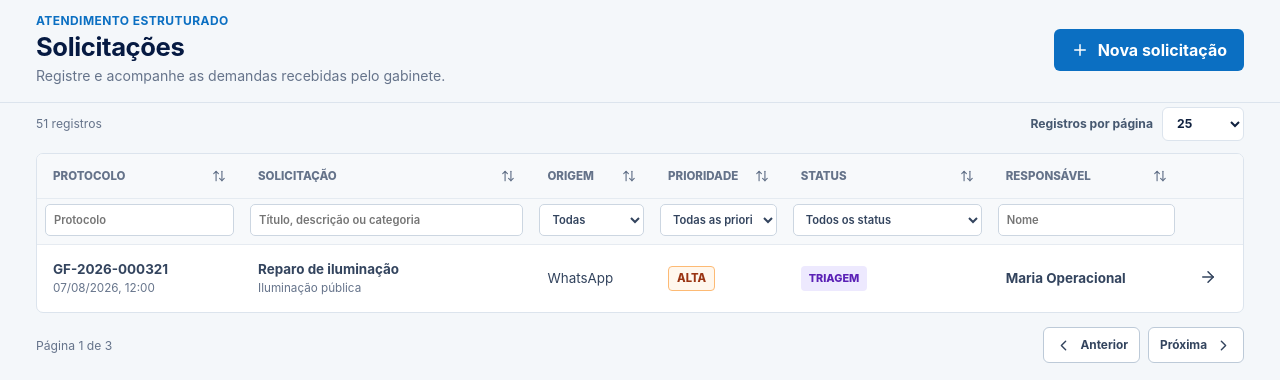
Test case: RequestsPage › pagina, ordena, filtra colunas e altera a quantidade de registros
expect the text "51 registros" is shown: met, box [36,116,102,131]
Select "10" in the dropdown labelled "Registros por página" at coordinates (1203, 124), box [1162,106,1244,140]
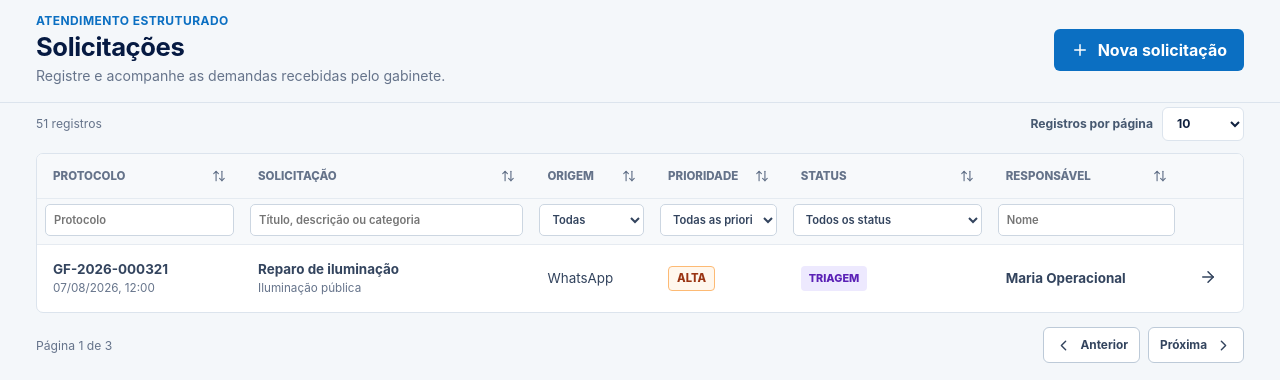
Click the button "Protocolo" at coordinates (140, 176), box [53,154,226,198]
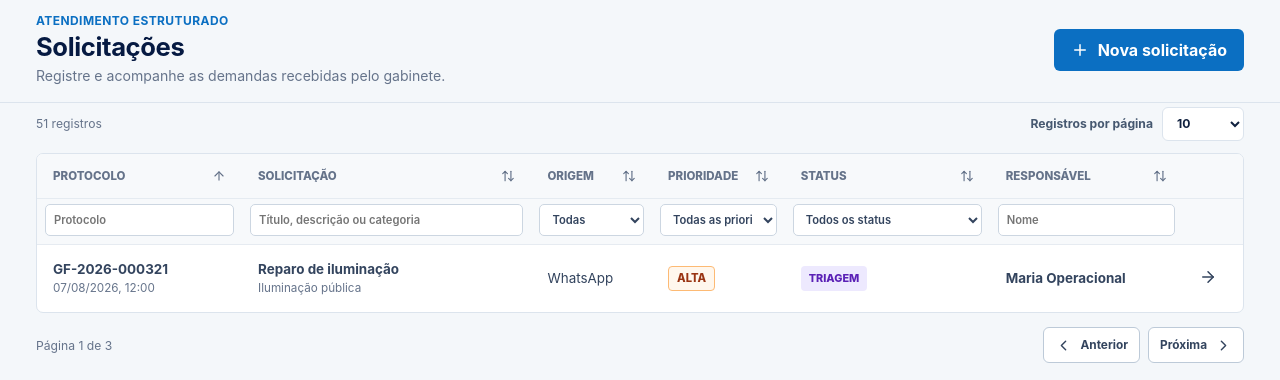
Type "000321" into the field named "Filtrar protocolo" at coordinates (140, 220), box [45,204,234,236]
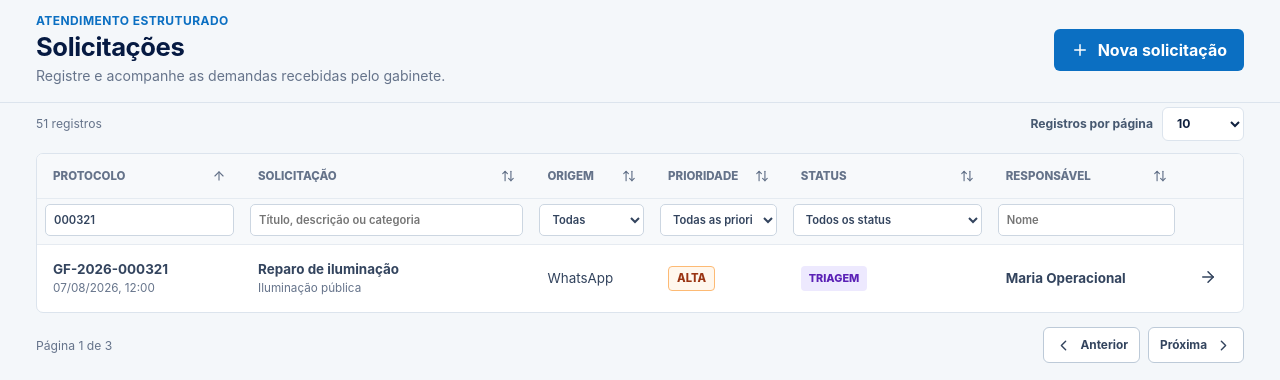
Click the button with aria-label "Próxima página" at coordinates (1196, 345), box [1148,327,1244,363]
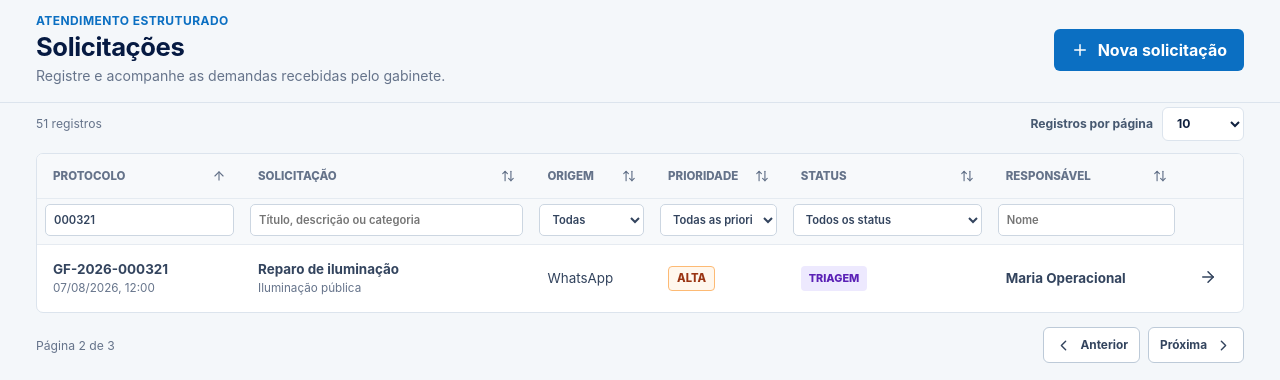
expect the text "Página 2 de 3" is shown: met, box [36,338,115,352]
